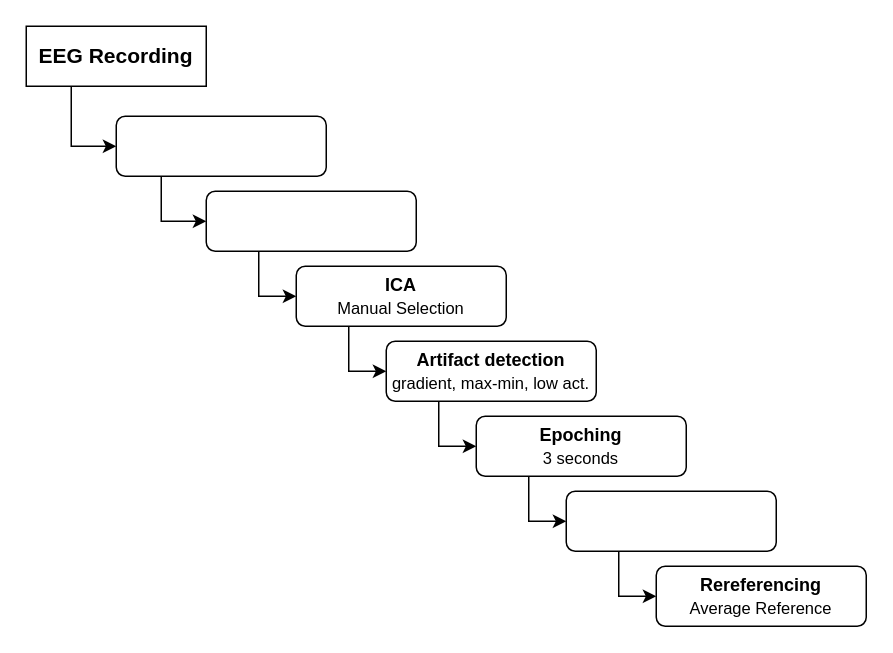
The diagram is 893 pixels wide and 653 high, and some of its shapes have lost their labels. The shapes that lost their labels are listed below. From the top down, each one's centre as x and y in pixels, then its label:
point 220,145: Filtering Notch 50 Hz, 1 - 40 Hz
point 310,220: Interpolation Topographic Spline
point 670,520: Remove epochs Based on artifact detection
